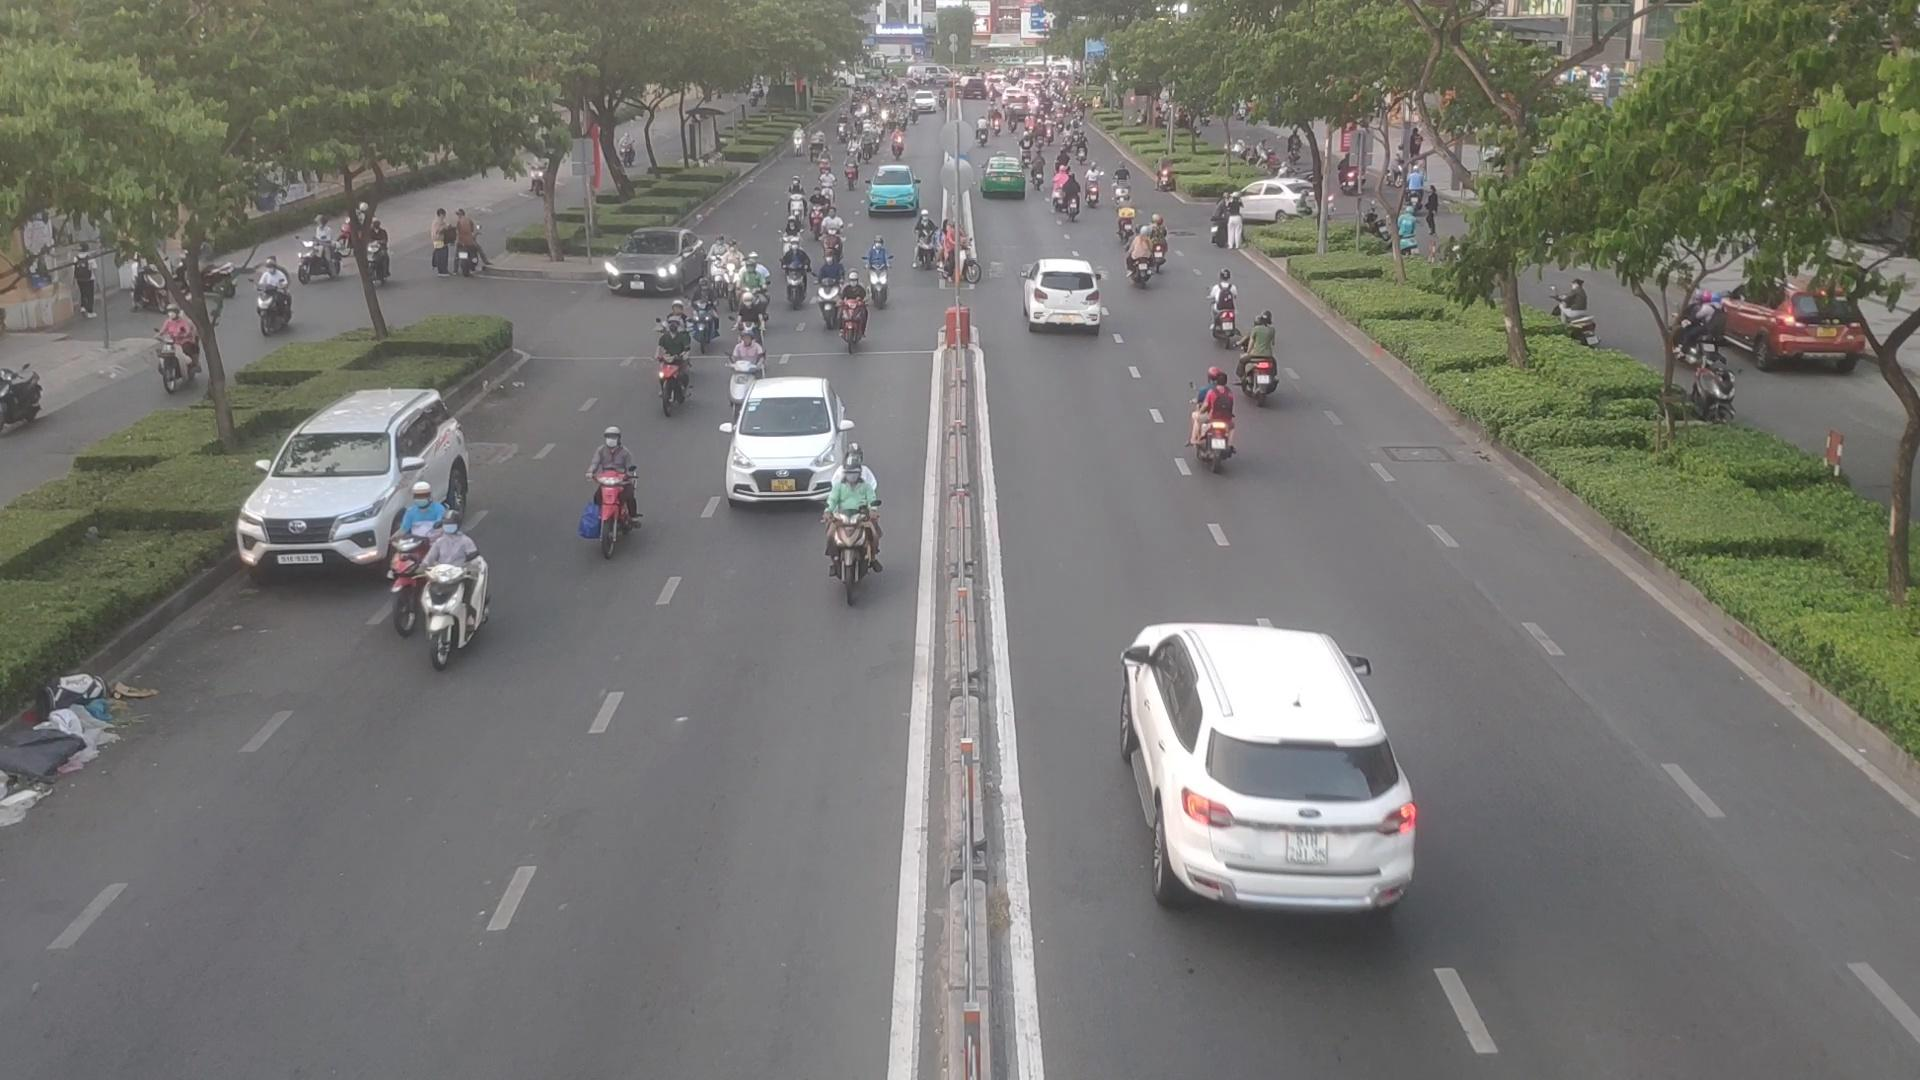car: (1124, 629, 1425, 914), (232, 389, 479, 580), (717, 377, 848, 502), (1709, 287, 1880, 378), (601, 229, 729, 301), (1025, 257, 1112, 334), (1233, 182, 1317, 225), (3, 367, 47, 434), (864, 167, 924, 216), (980, 156, 1030, 203)
motorbike: (810, 447, 890, 605), (419, 509, 491, 673), (385, 487, 447, 632), (584, 422, 641, 549), (1188, 365, 1238, 483), (655, 327, 696, 414), (1242, 316, 1280, 407), (735, 251, 770, 340), (938, 222, 978, 289), (864, 240, 898, 316), (723, 335, 758, 404), (1211, 270, 1244, 343), (837, 278, 872, 347), (822, 248, 844, 334), (910, 208, 938, 270), (723, 237, 745, 310), (1125, 225, 1151, 286), (694, 278, 717, 345), (816, 204, 847, 256), (785, 241, 807, 305), (705, 227, 727, 293), (1062, 173, 1085, 220), (782, 179, 807, 224), (1113, 162, 1137, 204), (1114, 203, 1135, 248), (778, 216, 800, 258), (811, 189, 825, 237), (1085, 164, 1101, 207), (820, 171, 840, 204), (1050, 171, 1065, 211), (843, 150, 858, 190), (818, 166, 835, 200)
